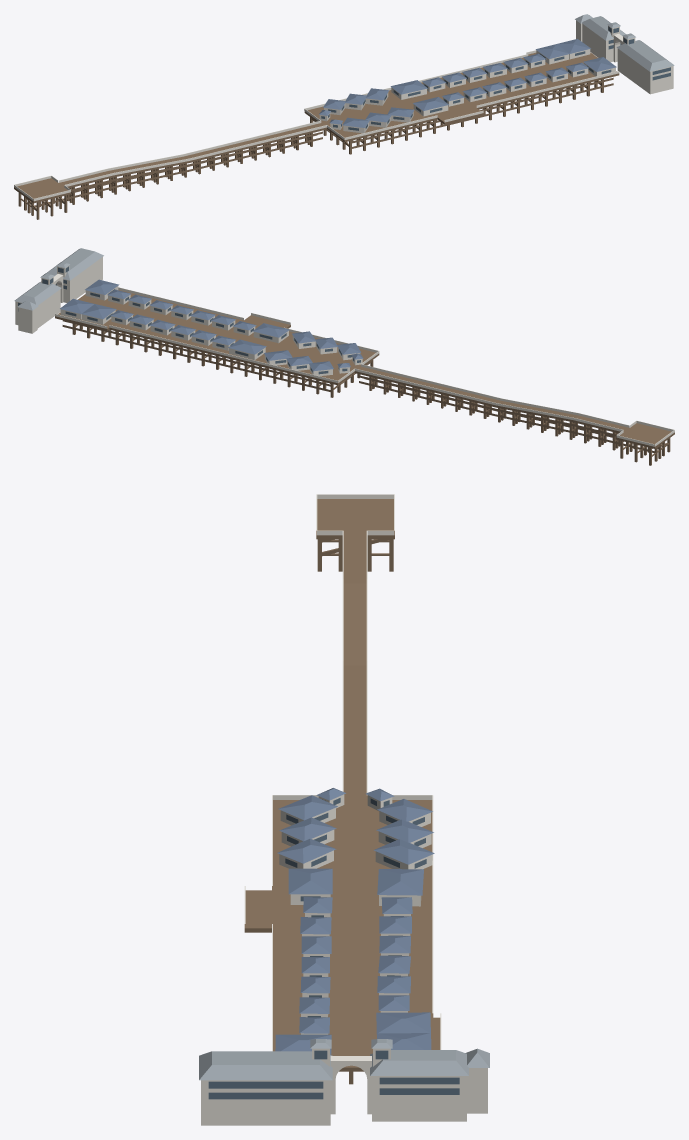
The model's file is sd-crystal-pier.glb.
The picture shows the model from 3 angles, top to bottom: view 1: azimuth 30°, elevation 25°; view 2: azimuth 150°, elevation 25°; view 3: azimuth 270°, elevation 25°; orthographic projection. The views are drawn at different scales.
Parts seen in each view (by area): view 1: Crystal Pier; view 2: Crystal Pier; view 3: Crystal Pier.
Part boxes in pixels (x1=…): Crystal Pier: x1=14, y1=14, x2=674, y2=219; Crystal Pier: x1=14, y1=248, x2=674, y2=465; Crystal Pier: x1=199, y1=494, x2=489, y2=1125.
Size of the model in its own units: 284 by 17.7 by 58.5.
